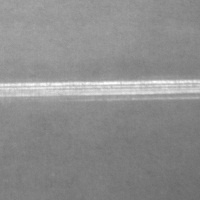scratches: (0, 78, 199, 101)
